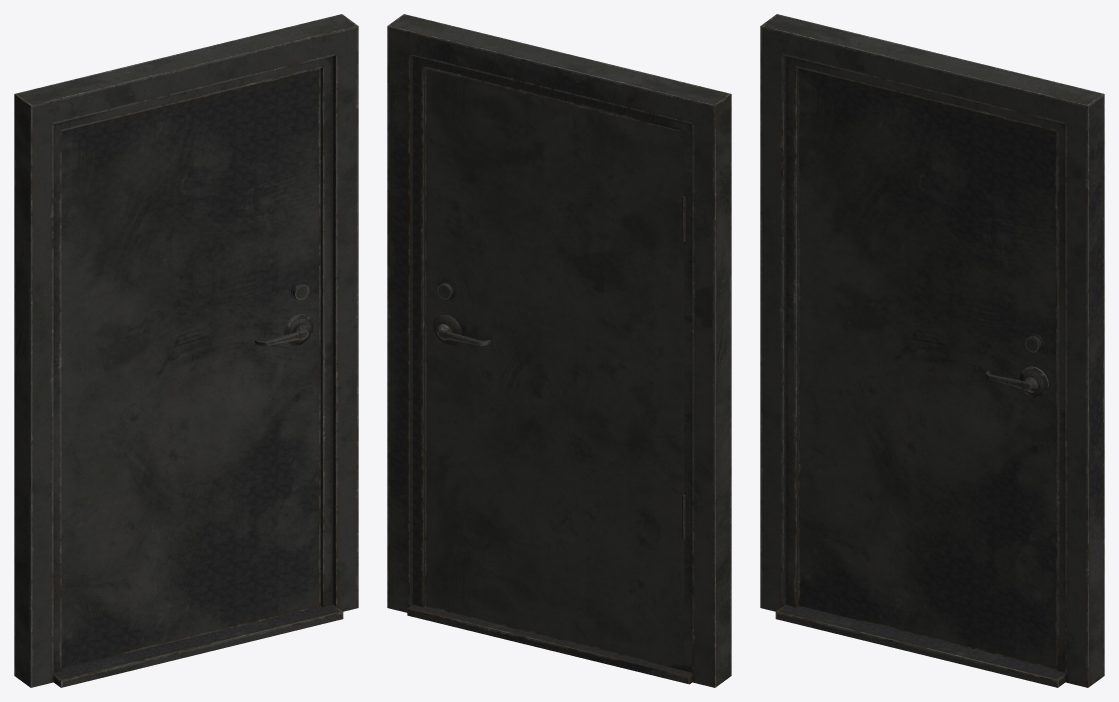
The model's file is Puertents.fbx.
The picture shows the model from 3 angles, left to right: view 1: azimuth 30°, elevation 25°; view 2: azimuth 150°, elevation 25°; view 3: azimuth 330°, elevation 25°; orthographic projection.
Visible parts, largest first — view 1: Puerta, Marco; view 2: Puerta, Marco; view 3: Puerta, Marco.
Boxes of the visible parts, box(x1,y1,x2,y2) form: Puerta: box(61, 68, 320, 668); Marco: box(14, 14, 358, 687); Puerta: box(425, 68, 684, 670); Marco: box(387, 14, 731, 687); Puerta: box(798, 68, 1057, 669); Marco: box(760, 14, 1104, 687).
Size of the model in its own units: 142 by 241 by 20.53.
1 material, 1 textured.
